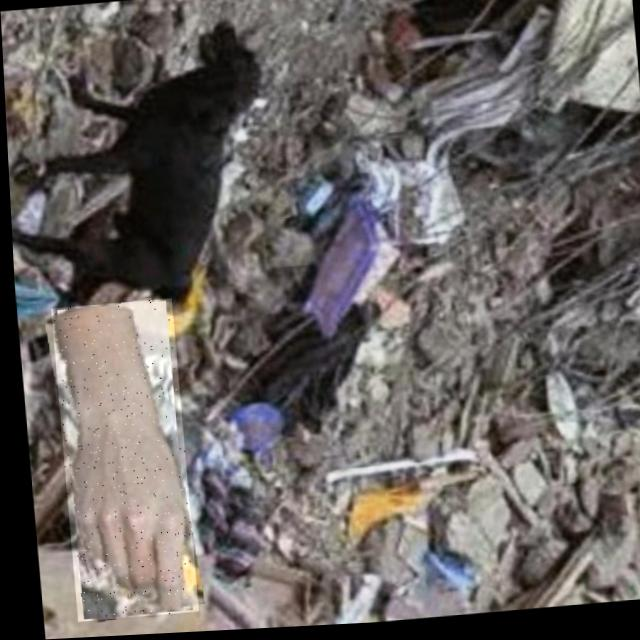Person in Rubble: (46, 299, 191, 623)
